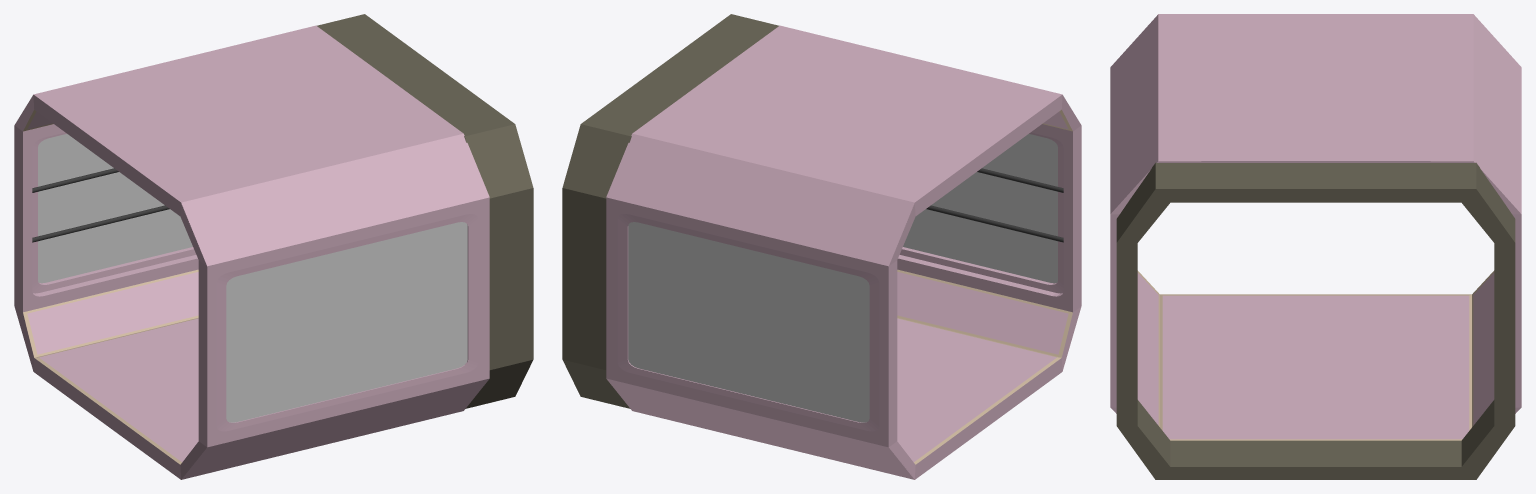
Rendered from hallwaytest3.fbx.
3 renders of one model, left to right at view 1: azimuth 30°, elevation 25°; view 2: azimuth 150°, elevation 25°; view 3: azimuth 270°, elevation 25°, orthographic. The views are drawn at different scales.
Parts seen in each view (by area): view 1: Cube.010; view 2: Cube.010; view 3: Cube.010.
Part boxes in pixels (x1,y1,x2,y2): Cube.010: (14,14,533,479); Cube.010: (562,14,1081,479); Cube.010: (1110,14,1521,479).
Size of the model in its own units: 12.79 by 10.19 by 12.83.
